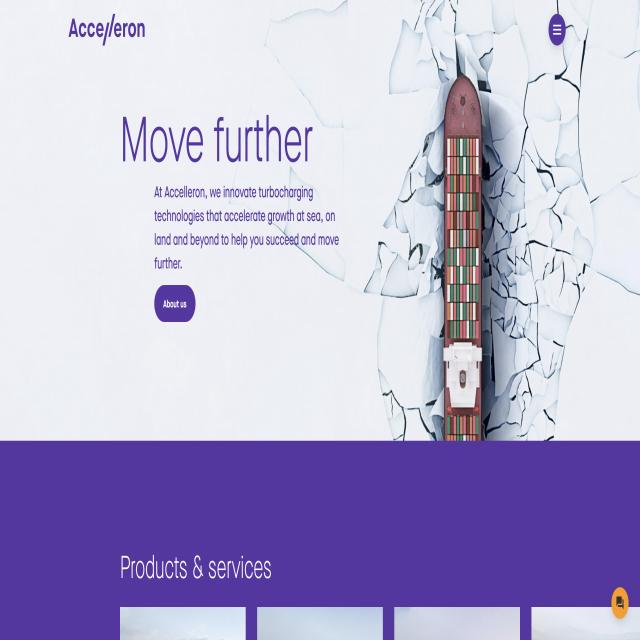Logo: (62, 6, 155, 55)
